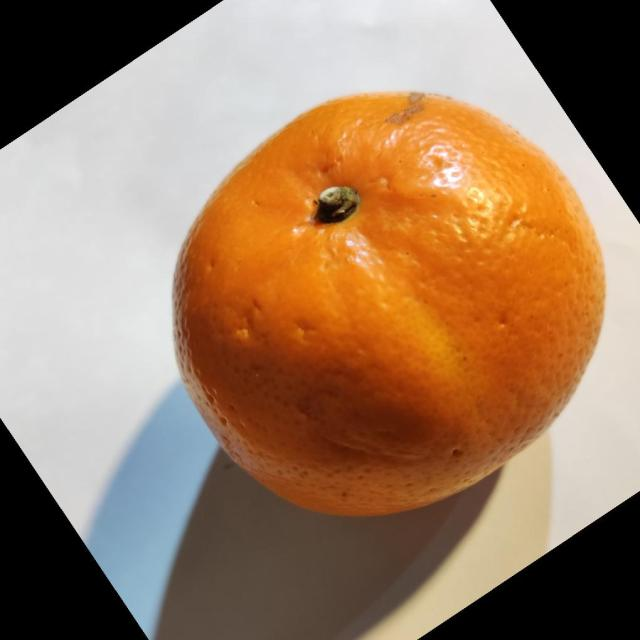fresh orange: (170, 89, 606, 518)
